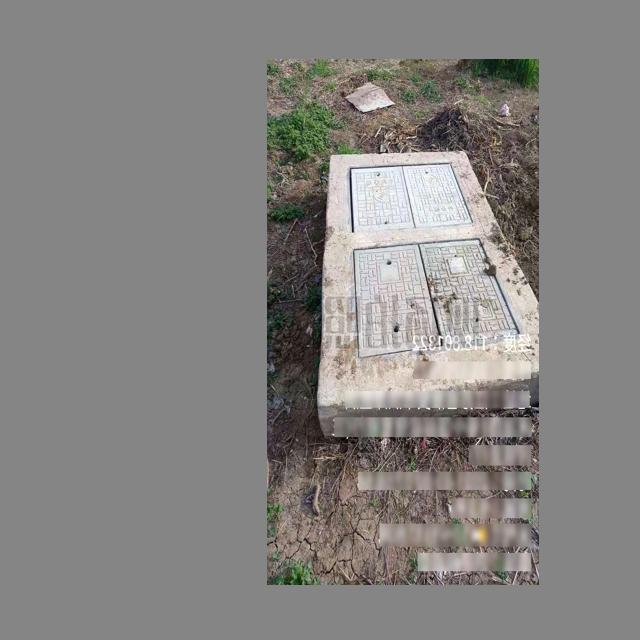good: (351, 237, 524, 361), (348, 160, 476, 236)
